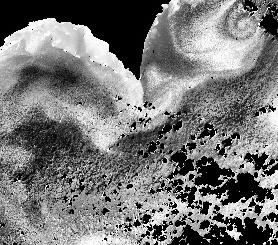CE: (221, 9, 264, 40)
